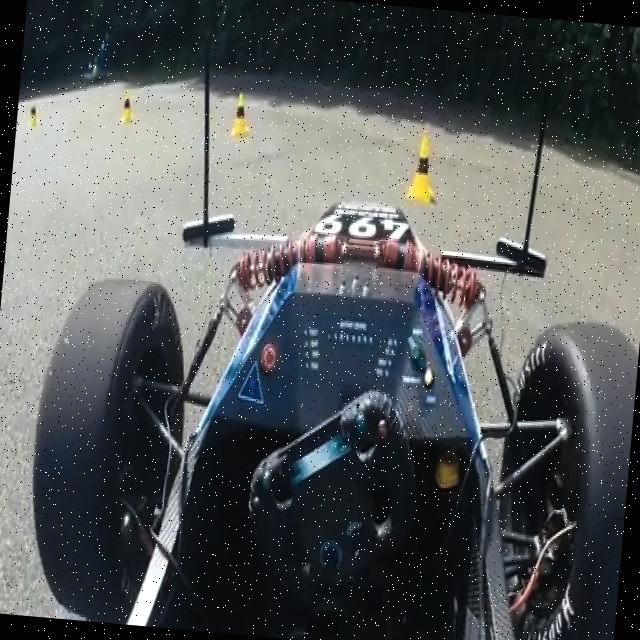yellow_cone: (408, 125, 437, 202), (230, 87, 250, 141), (118, 91, 134, 128), (27, 102, 39, 130)
